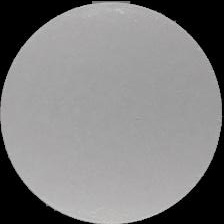68788-6422: (0, 0, 224, 224)
